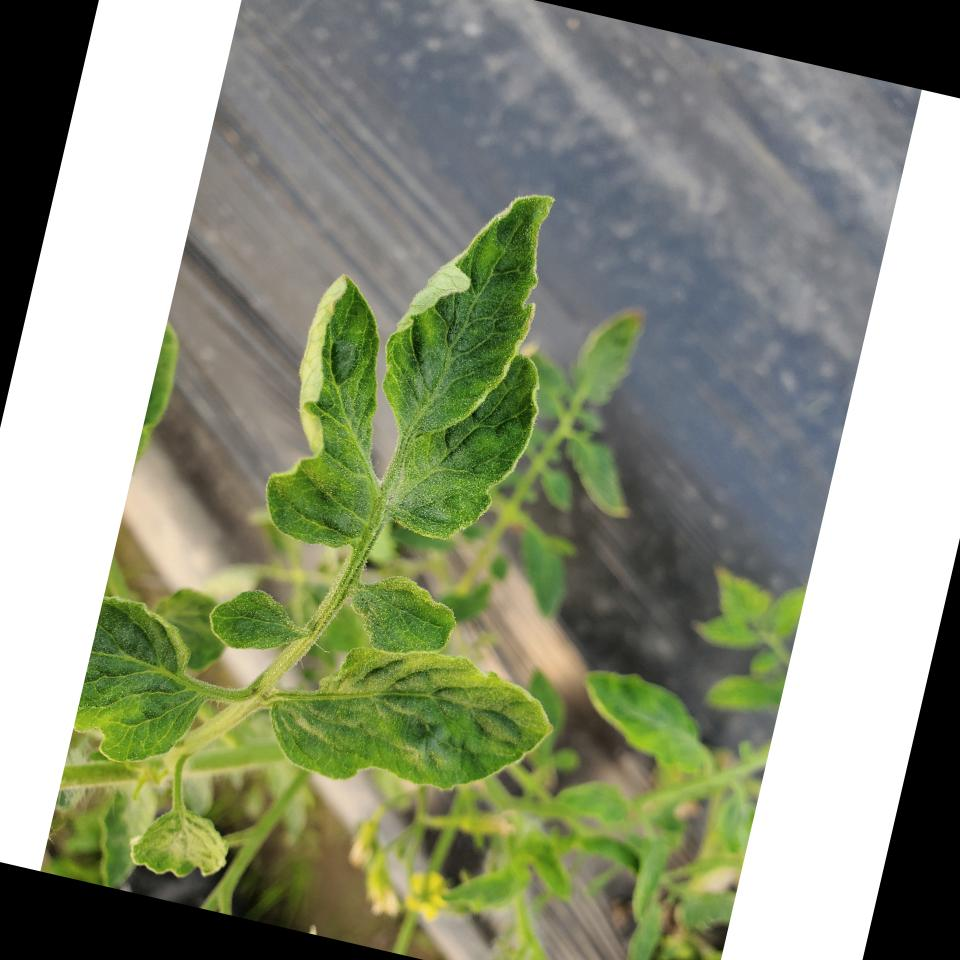tomato_yellow_leaf_curl_virus: (263, 154, 584, 584), (270, 620, 562, 820)
